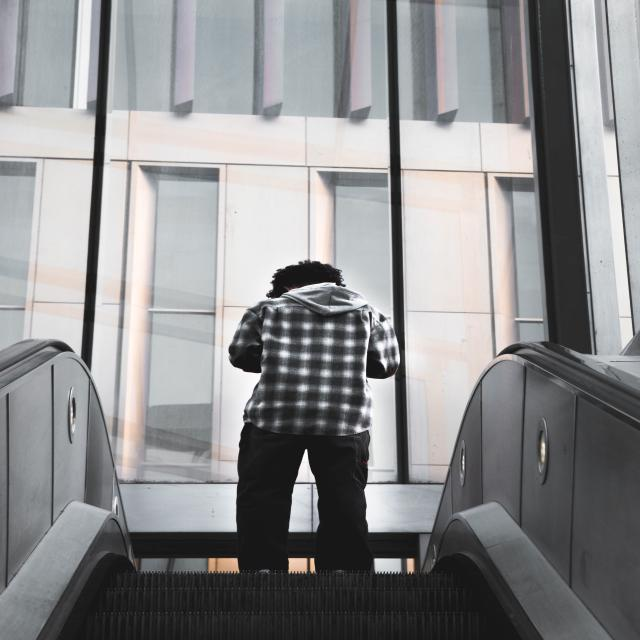standing: (222, 257, 408, 579)
